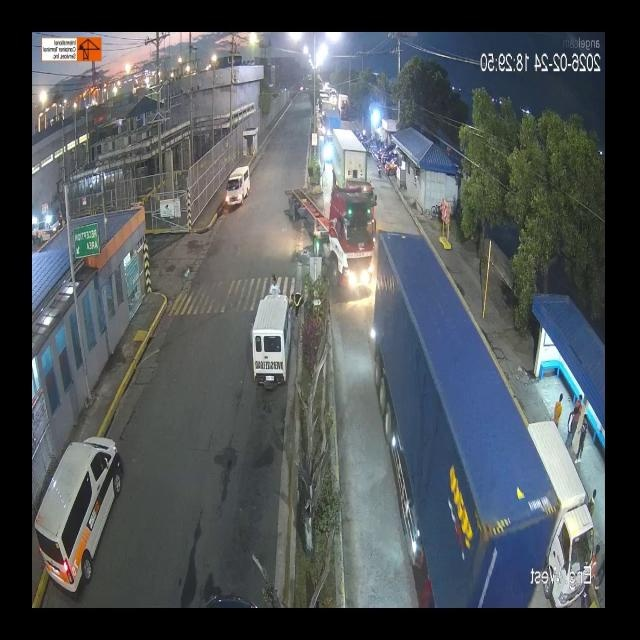car: (37, 436, 124, 592), (240, 290, 295, 396), (226, 159, 254, 215)
truck: (82, 233, 372, 604), (283, 181, 377, 283), (330, 129, 372, 190)
